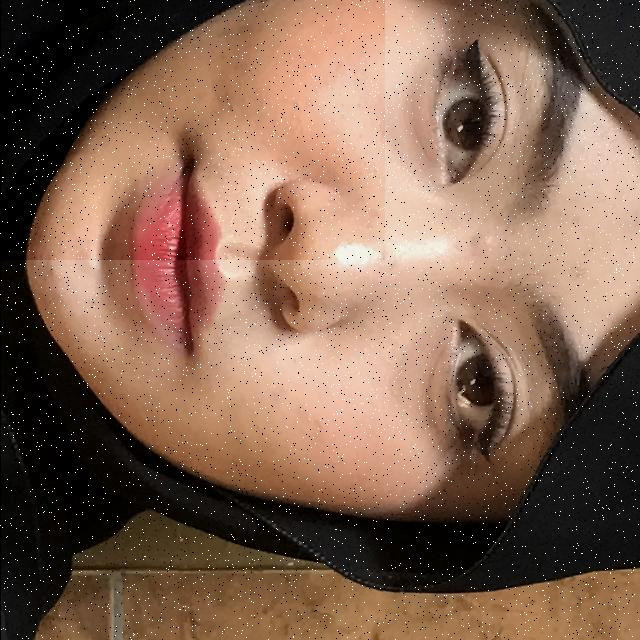ibu: (0, 0, 384, 260)
